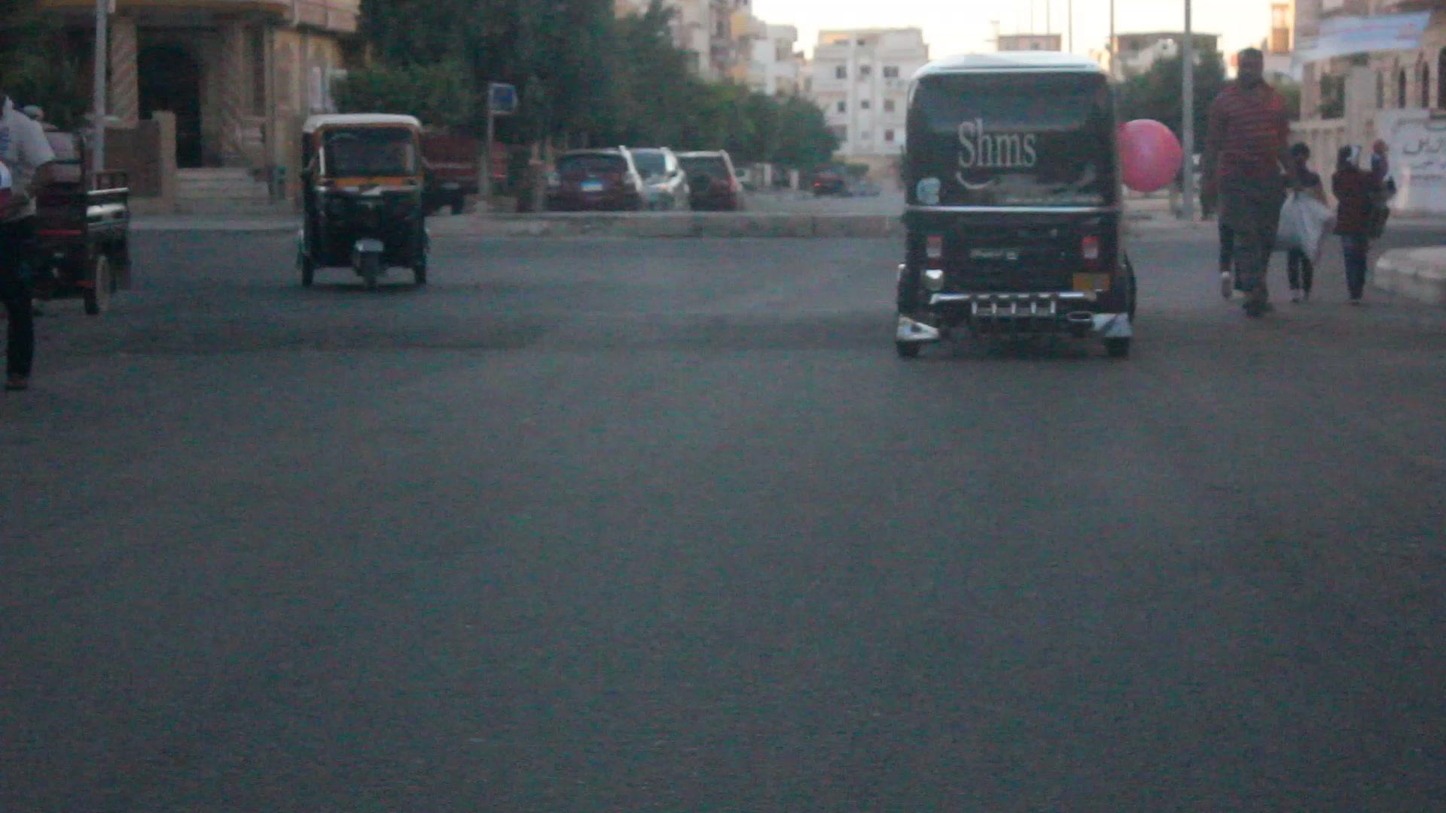Bump: (102, 297, 909, 369), (1141, 311, 1446, 358)
